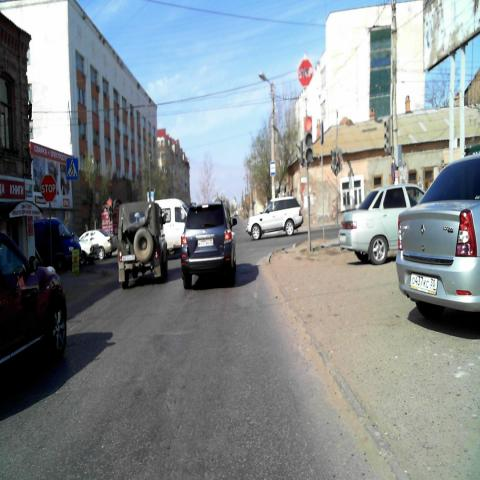2_5: (298, 59, 314, 90), (42, 173, 56, 201)
5_19_1: (66, 157, 78, 180)
